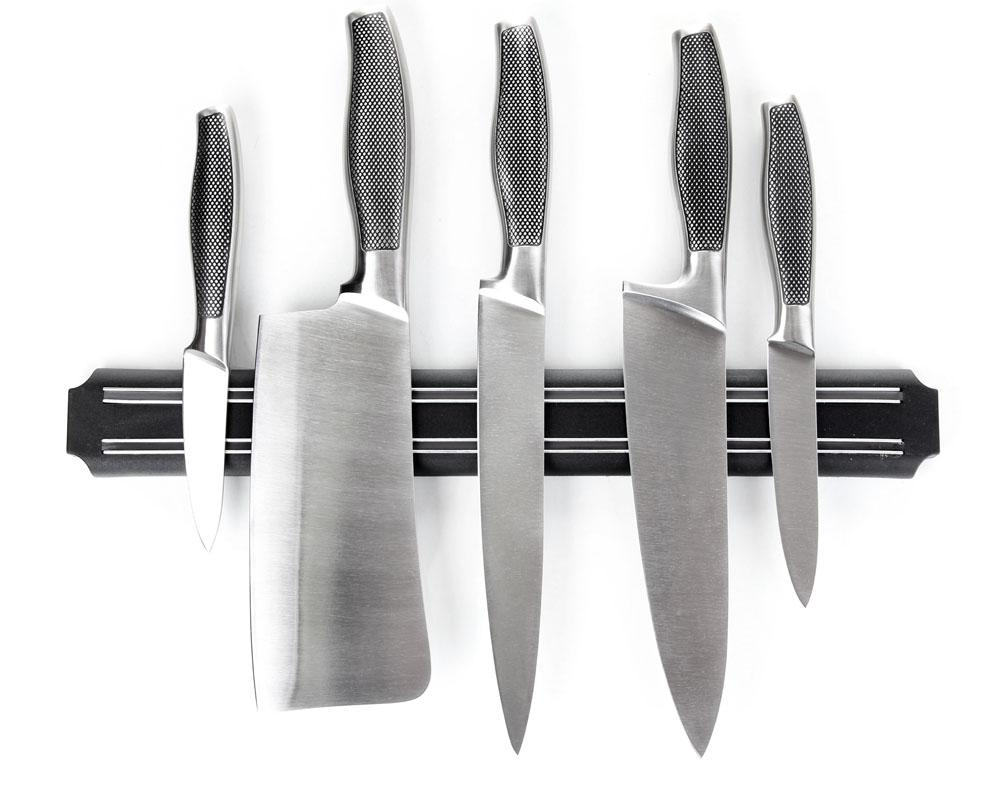knife: (55, 6, 916, 797)
